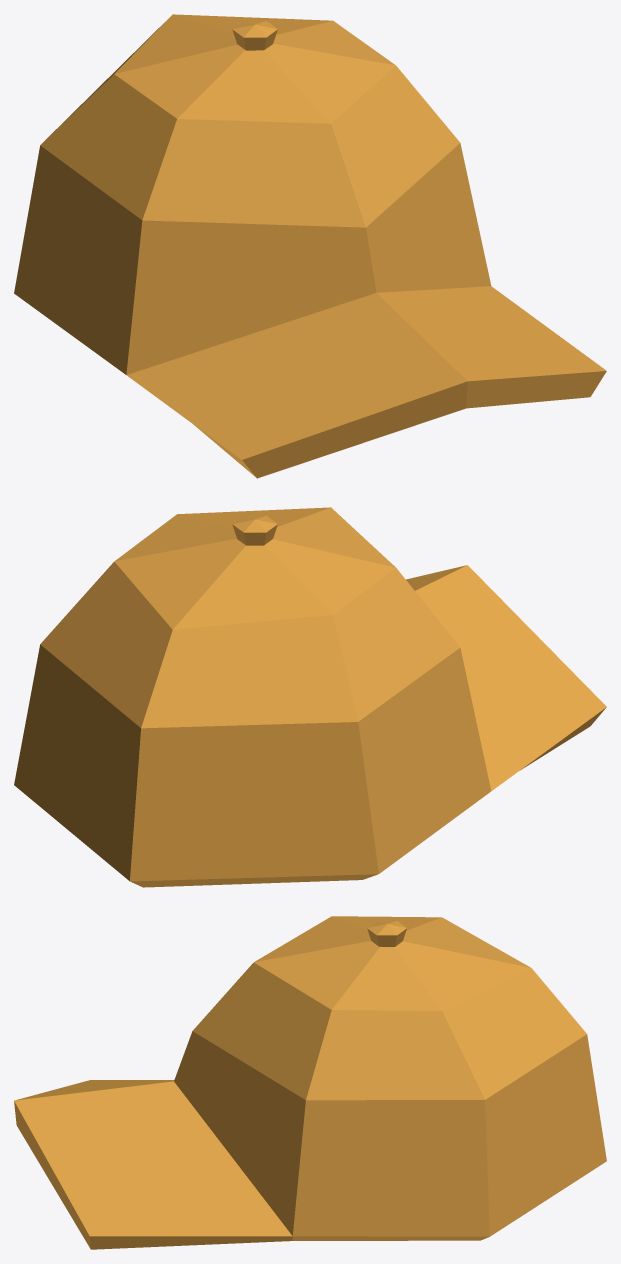
Rendered from cap-baseball.fbx.
The picture shows the model from 3 angles, top to bottom: view 1: azimuth 30°, elevation 25°; view 2: azimuth 150°, elevation 25°; view 3: azimuth 270°, elevation 25°; orthographic projection. The views are drawn at different scales.
Visible parts, largest first — view 1: cap-baseball; view 2: cap-baseball; view 3: cap-baseball.
Boxes of the visible parts, <box> form: cap-baseball: <box>14,14,606,478</box>; cap-baseball: <box>14,507,606,887</box>; cap-baseball: <box>14,916,606,1249</box>.
Bounding box in the file's own units: 0.1981 × 0.1503 × 0.3176.
